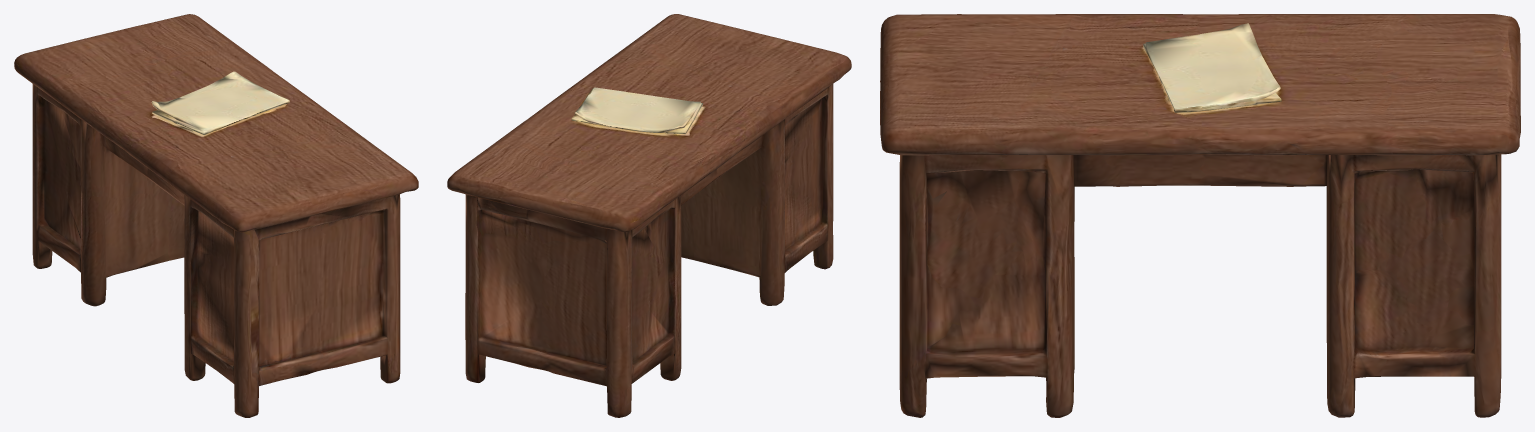
File: desk.glb
3 renders of one model, left to right at view 1: azimuth 30°, elevation 25°; view 2: azimuth 150°, elevation 25°; view 3: azimuth 270°, elevation 25°, orthographic. The views are drawn at different scales.
Parts seen in each view (by area): view 1: tripo_node_f160e84e-fe0c-4943-8fa1-7e01e69204ec; view 2: tripo_node_f160e84e-fe0c-4943-8fa1-7e01e69204ec; view 3: tripo_node_f160e84e-fe0c-4943-8fa1-7e01e69204ec.
Part boxes in pixels (x1,y1,x2,y2): tripo_node_f160e84e-fe0c-4943-8fa1-7e01e69204ec: [14, 14, 418, 417]; tripo_node_f160e84e-fe0c-4943-8fa1-7e01e69204ec: [447, 14, 851, 417]; tripo_node_f160e84e-fe0c-4943-8fa1-7e01e69204ec: [880, 14, 1520, 417].
Bounding box in the file's own units: 0.469 × 0.5349 × 0.9998.
Materials: 1 (1 with a texture image).
